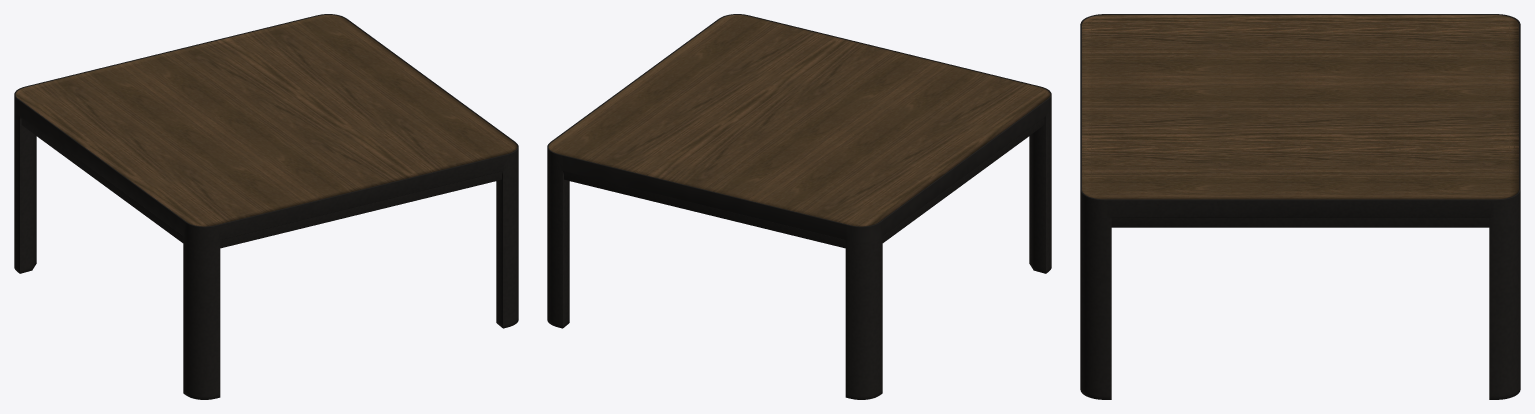
File: table1.1.glb
3 views of the same model, side by side, from view 1: azimuth 30°, elevation 25°; view 2: azimuth 150°, elevation 25°; view 3: azimuth 270°, elevation 25° (orthographic). The views are drawn at different scales.
Parts seen in each view (by area): view 1: Cube, Cube.002; view 2: Cube, Cube.002; view 3: Cube, Cube.002.
Part boxes in pixels (<box>): Cube: <box>14,14,518,399</box>; Cube.002: <box>21,118,501,248</box>; Cube: <box>547,14,1051,399</box>; Cube.002: <box>564,118,1044,248</box>; Cube: <box>1080,14,1520,399</box>; Cube.002: <box>1111,218,1489,227</box>.
Bounding box in the file's own units: 0.7 × 0.351 × 0.7.
1 material, 1 textured.
